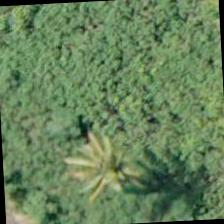Kelapa_Sawit: (58, 118, 154, 213)
